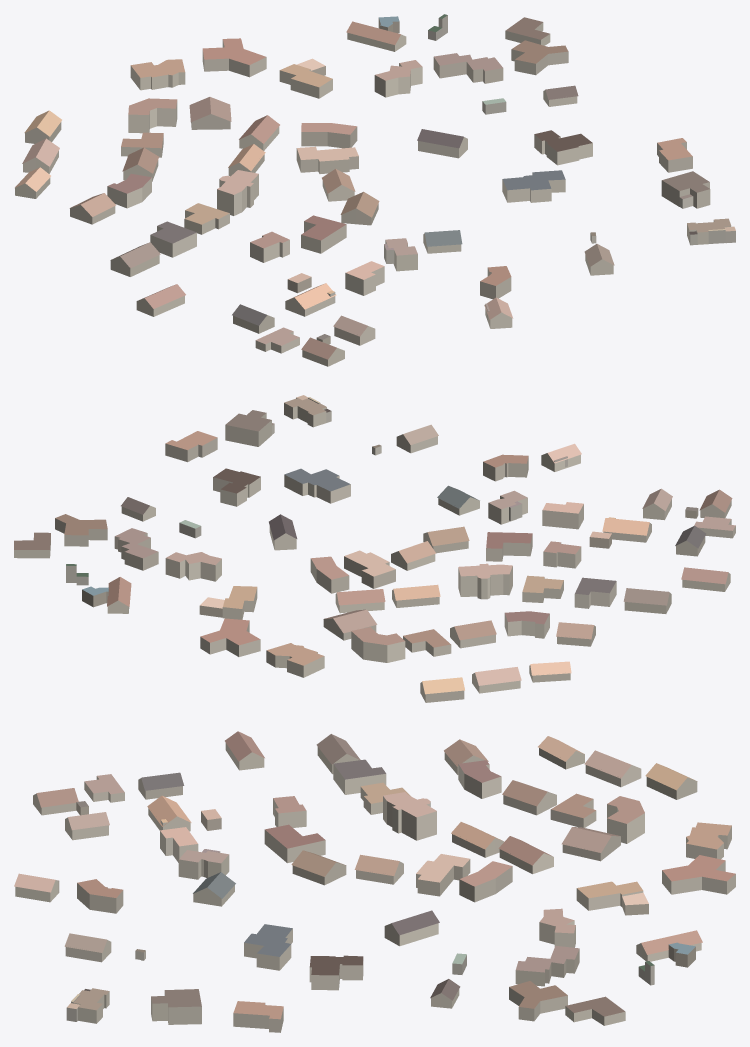
3 renders of one model, top to bottom at view 1: azimuth 30°, elevation 25°; view 2: azimuth 150°, elevation 25°; view 3: azimuth 270°, elevation 25°, orthographic. The views are drawn at different scales.
Visible parts, largest first — view 1: tuile; view 2: tuile; view 3: tuile.
Boxes of the visible parts, x1,y1,x2,y2 form: tuile: (15,14,735,366); tuile: (14,395,735,702); tuile: (14,731,735,1032).
Bounding box in the file's own units: 267 × 22.14 × 267.
